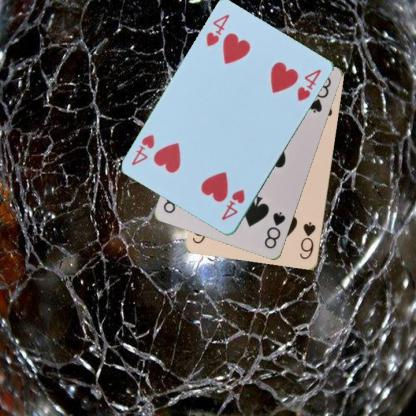4h: (203, 12, 231, 48), (219, 186, 247, 221)
6s: (297, 220, 317, 261)
8s: (262, 209, 287, 250)
